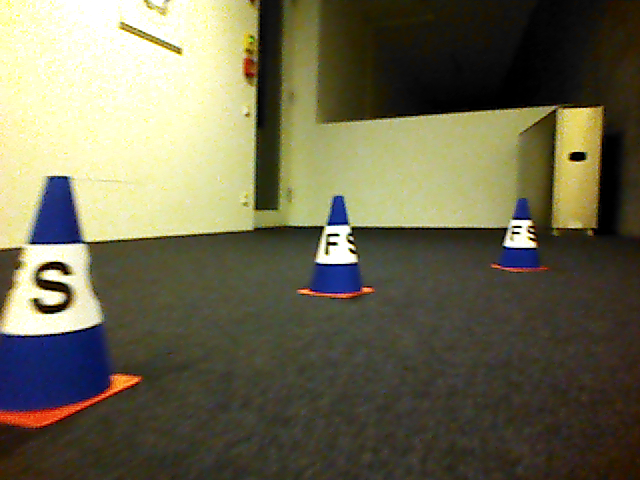bluecone: (1, 174, 143, 428), (295, 194, 378, 302), (491, 198, 552, 275)
